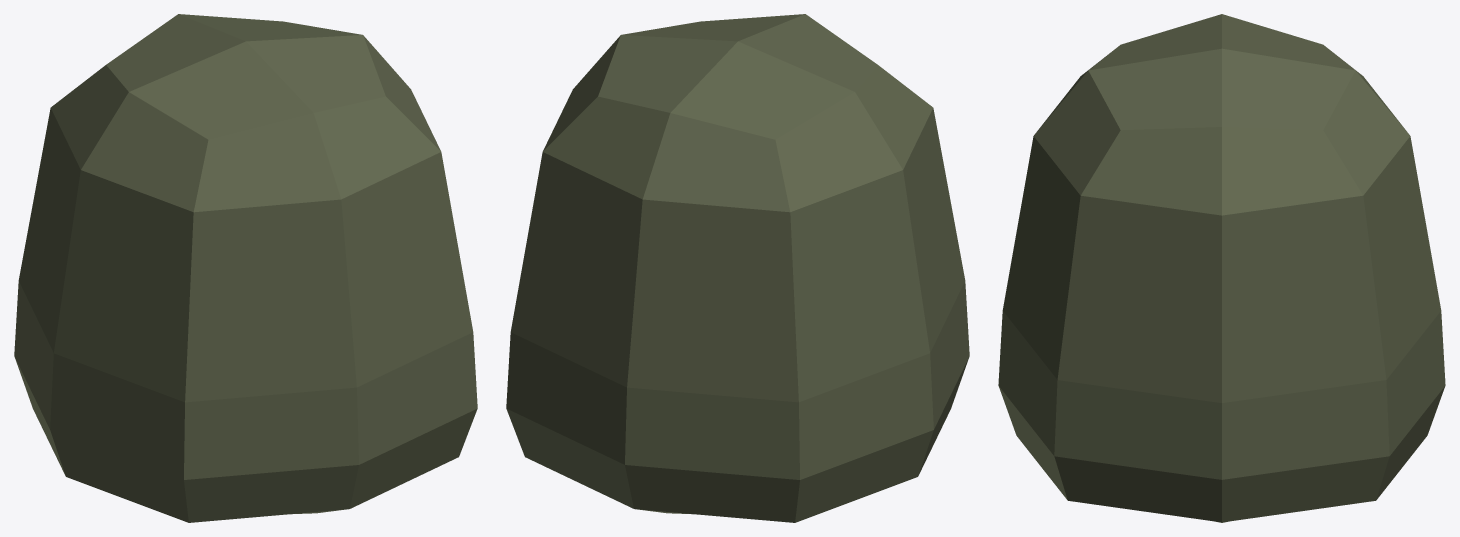
File: lettuce_crop.gltf
The picture shows the model from 3 angles, left to right: view 1: azimuth 30°, elevation 25°; view 2: azimuth 150°, elevation 25°; view 3: azimuth 270°, elevation 25°; orthographic projection.
Visible parts, largest first — view 1: lettuce_crop; view 2: lettuce_crop; view 3: lettuce_crop.
Part boxes in pixels (<box>): lettuce_crop: <box>14,14,477,522</box>; lettuce_crop: <box>506,14,969,522</box>; lettuce_crop: <box>998,14,1445,522</box>.
Bounding box in the file's own units: 0.4043 × 0.4238 × 0.4043.
1 material, 1 textured.
